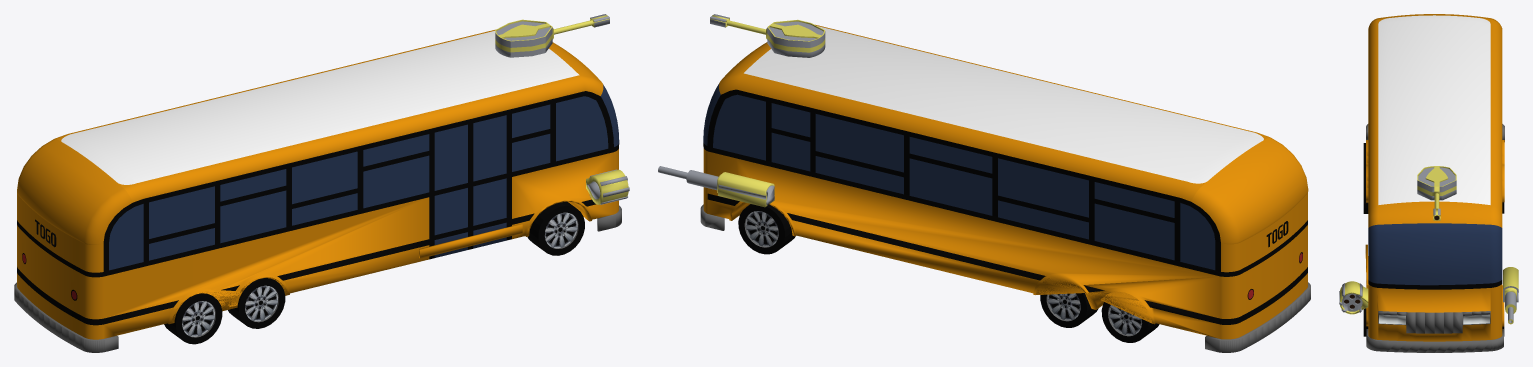
Rendered from Togo.fbx.
The picture shows the model from 3 angles, left to right: view 1: azimuth 30°, elevation 25°; view 2: azimuth 150°, elevation 25°; view 3: azimuth 270°, elevation 25°; orthographic projection. The views are drawn at different scales.
Parts seen in each view (by area): view 1: Group4, skp1185_1, skp2D9D1, skp2D9D3, skp2D9D2, skpA0EC1, Group1; view 2: Group4, skp1185_1, skp2D9D4, skp59AB1, skp2D9D5, skp2D9D6; view 3: Group4, skp1185_1, skpA0EC1, skp59AB1, skp2D9D2.
Part boxes in pixels (left/top/right/bottom): Group4: left=14, top=29, right=621, bottom=352; skp1185_1: left=495, top=14, right=609, bottom=57; skp2D9D1: left=527, top=201, right=584, bottom=255; skp2D9D3: left=164, top=293, right=222, bottom=344; skp2D9D2: left=228, top=278, right=285, bottom=328; skpA0EC1: left=586, top=169, right=629, bottom=204; Group1: left=419, top=224, right=522, bottom=258; Group4: left=700, top=24, right=1310, bottom=352; skp1185_1: left=710, top=14, right=825, bottom=57; skp2D9D4: left=738, top=204, right=795, bottom=254; skp59AB1: left=658, top=166, right=774, bottom=207; skp2D9D5: left=1040, top=293, right=1098, bottom=327; skp2D9D6: left=1101, top=302, right=1159, bottom=342; Group4: left=1366, top=14, right=1504, bottom=352; skp1185_1: left=1417, top=166, right=1456, bottom=220; skpA0EC1: left=1339, top=281, right=1368, bottom=314; skp59AB1: left=1503, top=267, right=1518, bottom=324; skp2D9D2: left=1363, top=168, right=1368, bottom=213.
Bounding box in the file's own units: 12.28 × 3.91 × 3.97.
